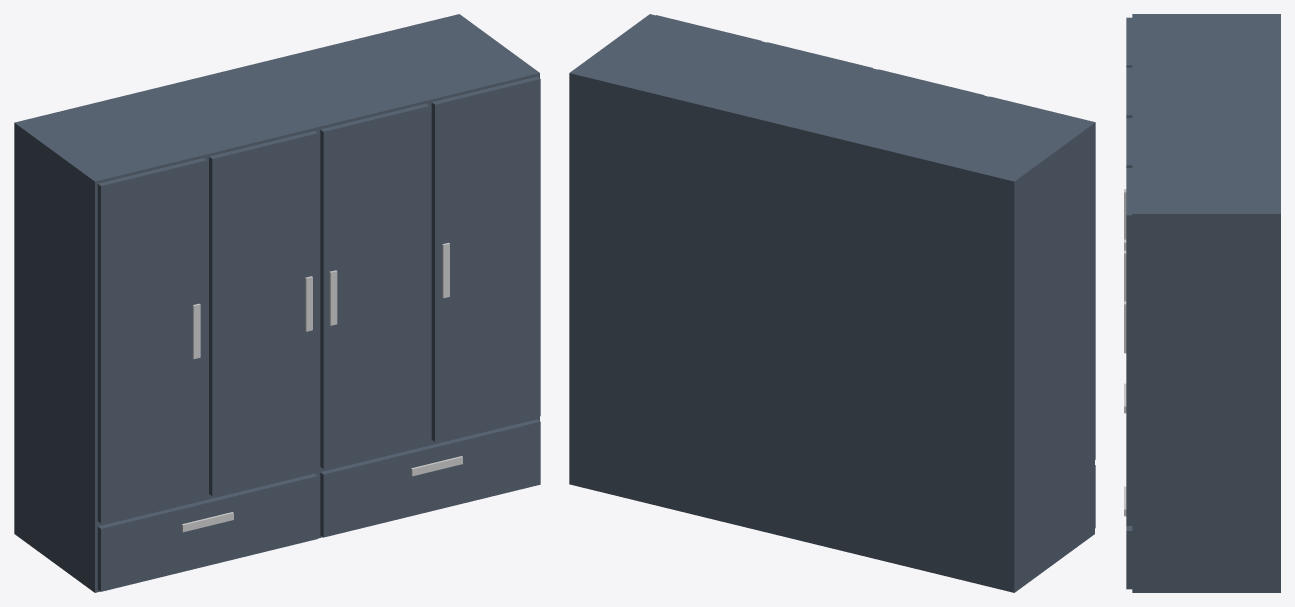
Rendered from wardrobe.fbx.
3 renders of one model, left to right at view 1: azimuth 30°, elevation 25°; view 2: azimuth 150°, elevation 25°; view 3: azimuth 270°, elevation 25°, orthographic. The views are drawn at different scales.
Visible parts, largest first — view 1: polySurface5; view 2: polySurface5; view 3: polySurface5.
Boxes of the visible parts, bbox=[...] form: polySurface5: bbox=[14, 14, 540, 592]; polySurface5: bbox=[569, 14, 1095, 592]; polySurface5: bbox=[1126, 14, 1280, 592].
Bounding box in the file's own units: 3.19 × 2.81 × 1.06.
